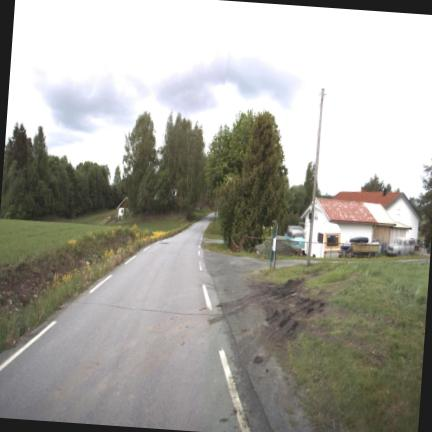Road: (0, 216, 272, 431)
